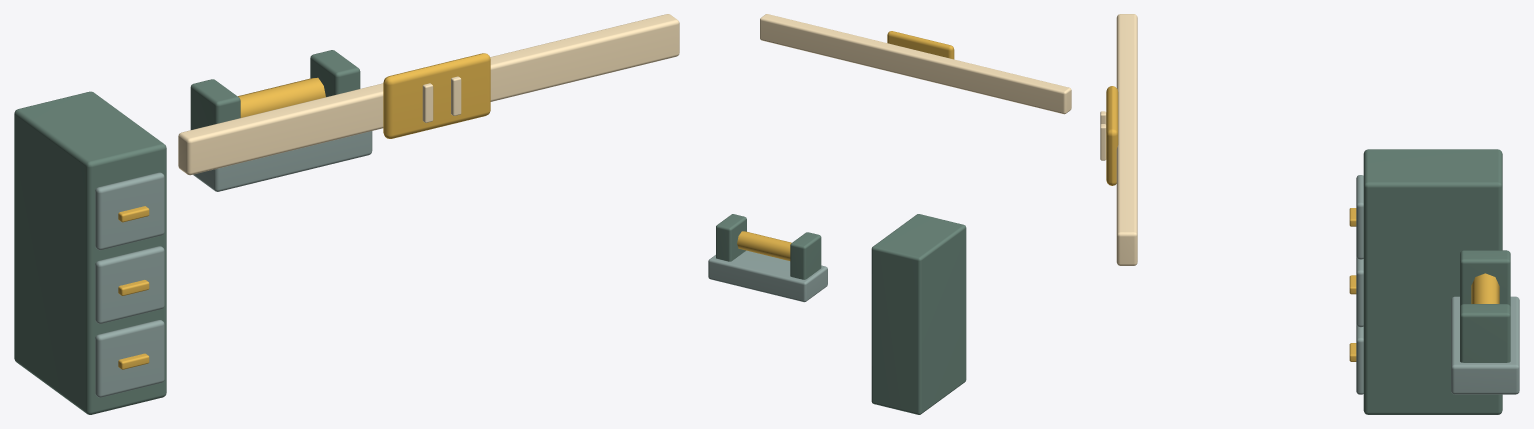
Rendered from workshop_level2.glb.
3 renders of one model, left to right at view 1: azimuth 30°, elevation 25°; view 2: azimuth 150°, elevation 25°; view 3: azimuth 270°, elevation 25°, orthographic. The views are drawn at different scales.
Visible parts, largest first — view 1: Tool cabinet, Upper fascia, Level plaque, Cabinet drawer.002, Cabinet drawer, Cabinet drawer.001, Lathe base, Lathe mount, Lathe spindle, Lathe mount.001; view 2: Tool cabinet, Upper fascia, Lathe base, Lathe mount, Lathe mount.001, Lathe spindle, Level plaque; view 3: Tool cabinet, Upper fascia, Lathe base, Lathe mount.001, Lathe mount, Level plaque, Lathe spindle, Cabinet drawer.002, Cabinet drawer, Cabinet drawer.001.
Boxes of the visible parts, box(x1,y1,x2,y2) form: Tool cabinet: box(14, 91, 166, 414); Upper fascia: box(178, 14, 679, 175); Level plaque: box(383, 53, 490, 138); Cabinet drawer.002: box(95, 172, 164, 250); Cabinet drawer: box(95, 320, 164, 397); Cabinet drawer.001: box(95, 246, 164, 323); Lathe base: box(193, 131, 372, 191); Lathe mount: box(190, 79, 240, 129); Lathe spindle: box(238, 77, 325, 117); Lathe mount.001: box(310, 50, 360, 96); Tool cabinet: box(871, 214, 966, 414); Upper fascia: box(760, 14, 1071, 114); Lathe base: box(708, 250, 827, 302); Lathe mount: box(790, 232, 821, 279); Lathe mount.001: box(716, 214, 746, 261); Lathe spindle: box(737, 231, 791, 260); Level plaque: box(887, 31, 954, 59); Tool cabinet: box(1363, 149, 1502, 414); Upper fascia: box(1116, 14, 1137, 265); Lathe base: box(1451, 296, 1519, 394); Lathe mount.001: box(1460, 304, 1510, 362); Lathe mount: box(1460, 250, 1510, 306); Level plaque: box(1106, 86, 1118, 185); Lathe spindle: box(1471, 273, 1499, 303); Cabinet drawer.002: box(1356, 175, 1363, 259); Cabinet drawer: box(1356, 324, 1363, 394); Cabinet drawer.001: box(1356, 257, 1363, 327).
Size of the model in its own units: 3.5 by 2.72 by 2.81.
